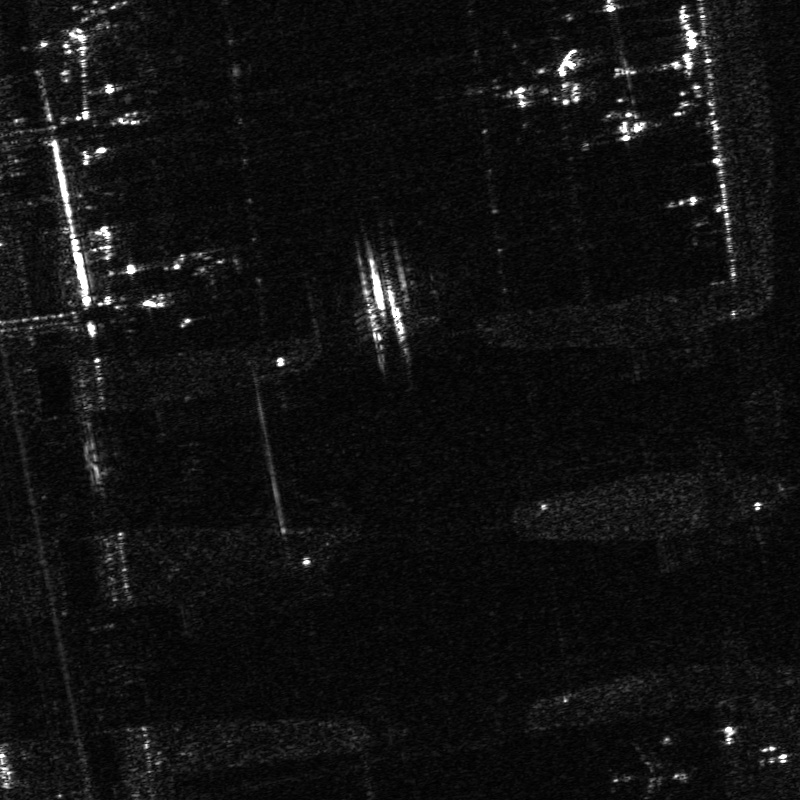Boeing737: (600, 740, 695, 799)
